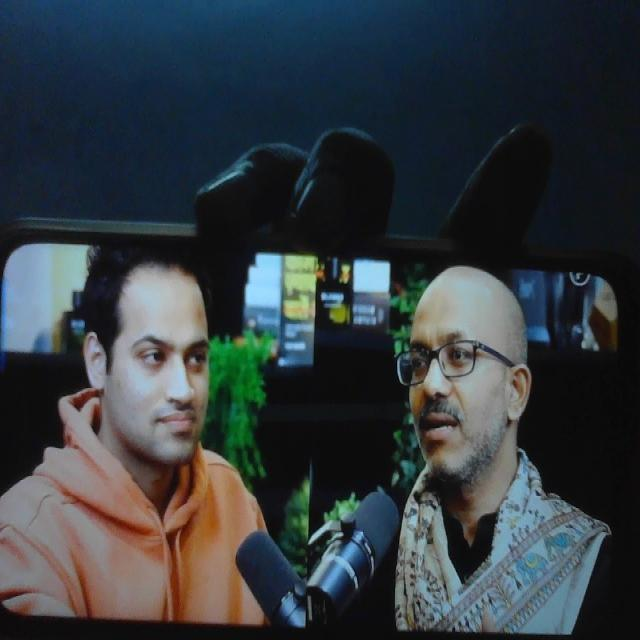fake: (392, 243, 524, 492), (89, 232, 213, 467)
